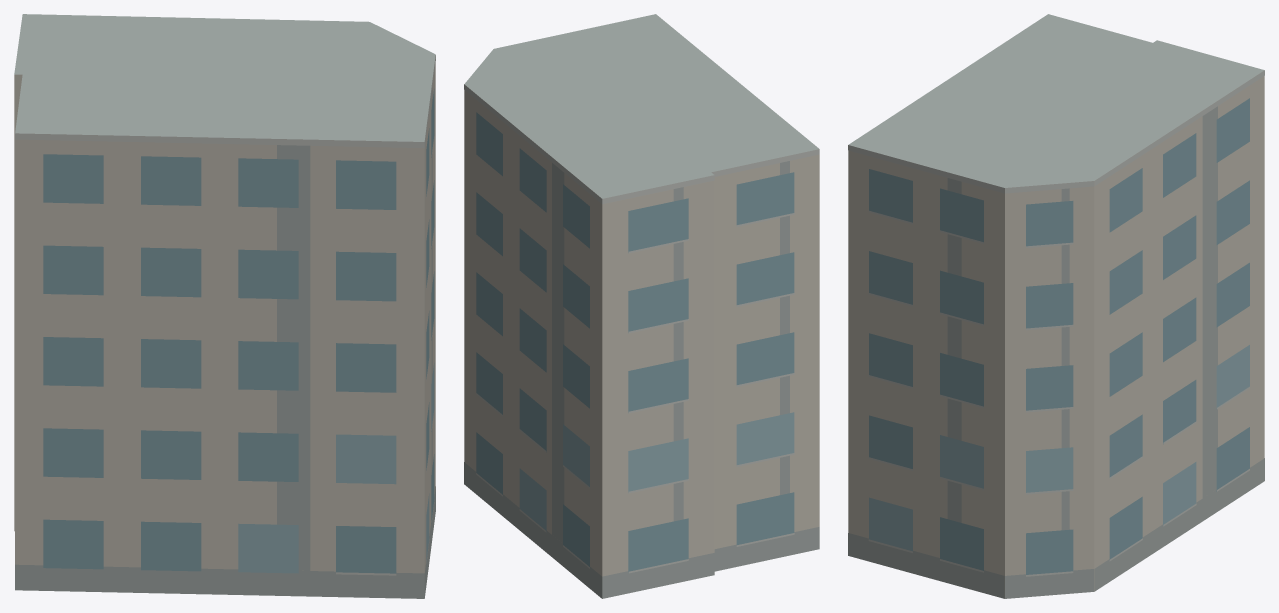
Rendered from survey-upis-33010000.glb.
The picture shows the model from 3 angles, left to right: view 1: azimuth 30°, elevation 25°; view 2: azimuth 150°, elevation 25°; view 3: azimuth 270°, elevation 25°; orthographic projection. The views are drawn at different scales.
Parts seen in each view (by area): view 1: survey-upis-33010000.tmp; view 2: survey-upis-33010000.tmp; view 3: survey-upis-33010000.tmp.
Boxes of the visible parts, x1=… form: survey-upis-33010000.tmp: x1=14, y1=14, x2=435, y2=598; survey-upis-33010000.tmp: x1=464, y1=14, x2=819, y2=598; survey-upis-33010000.tmp: x1=848, y1=14, x2=1264, y2=598.
Size of the model in its own units: 16.44 by 18.09 by 16.64.
